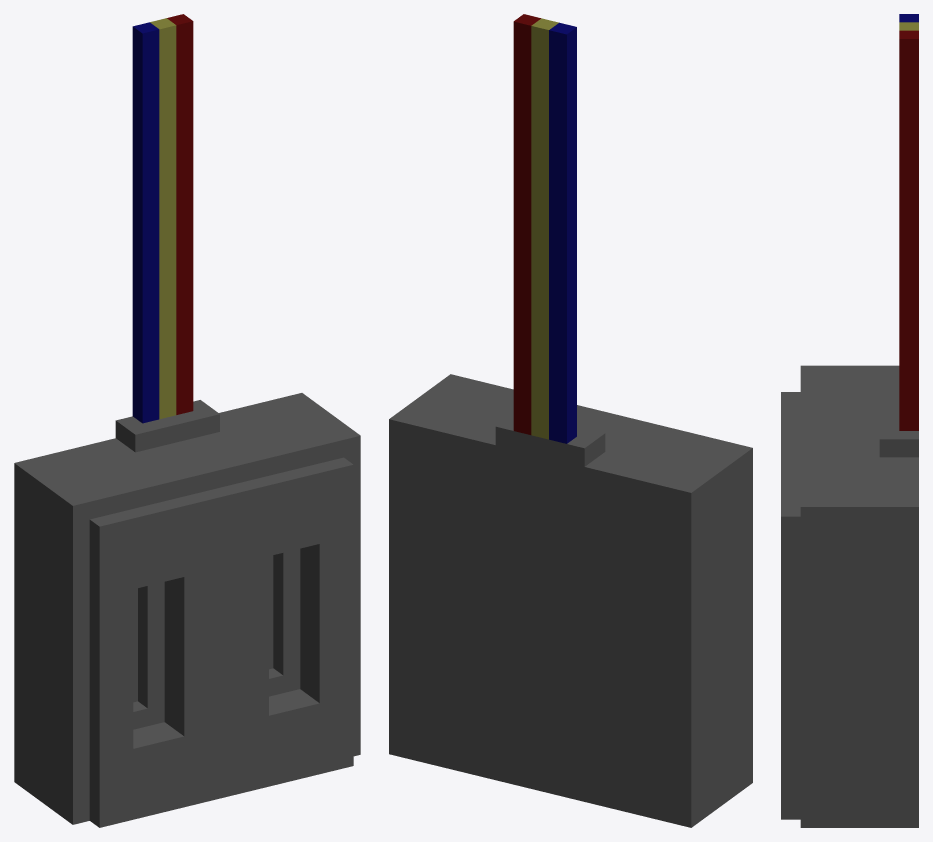
File: Lever.obj
3 renders of one model, left to right at view 1: azimuth 30°, elevation 25°; view 2: azimuth 150°, elevation 25°; view 3: azimuth 270°, elevation 25°, orthographic. The views are drawn at different scales.
Bounding box in the file's own units: 1.7 × 4.1 × 0.7.
1 material, 1 textured.
